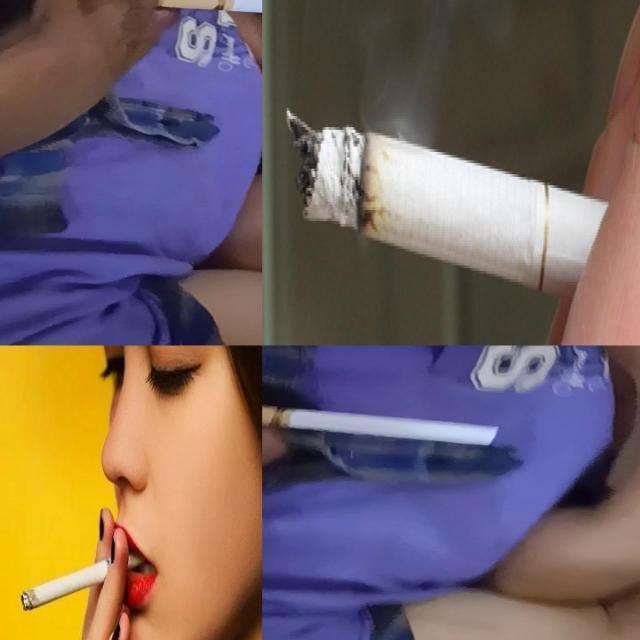rokok: (283, 100, 589, 296), (262, 398, 502, 452), (21, 550, 147, 612), (153, 0, 261, 22)
